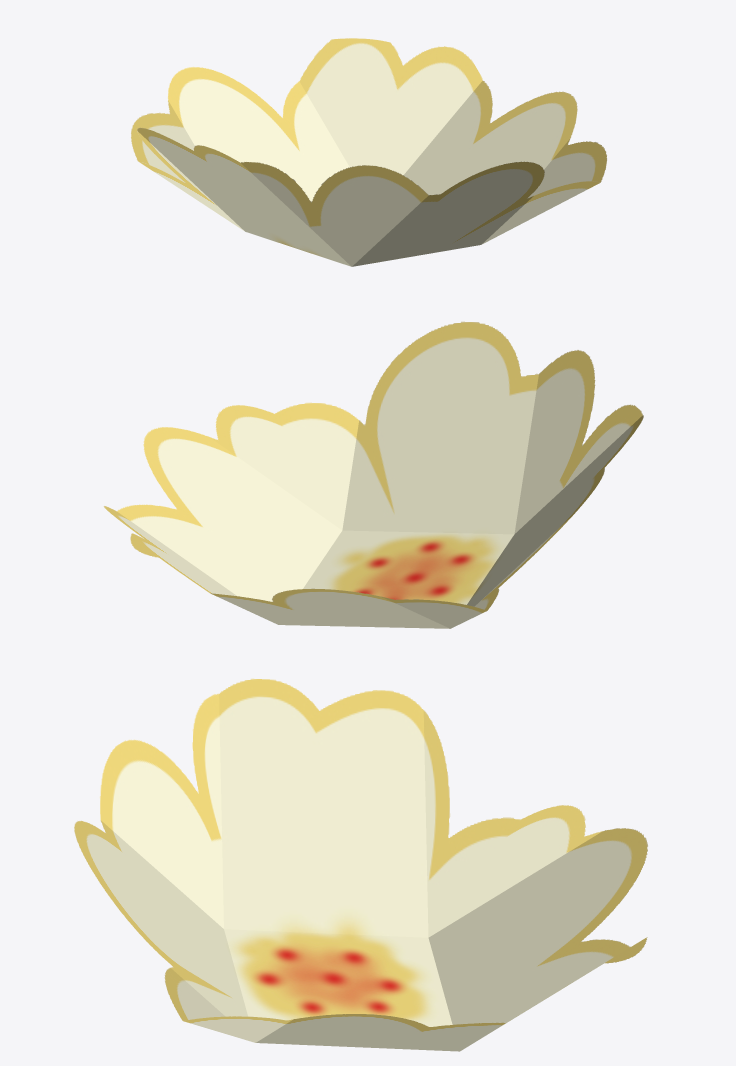
Rendered from single_blossom.glb.
The picture shows the model from 3 angles, top to bottom: view 1: azimuth 30°, elevation 25°; view 2: azimuth 150°, elevation 25°; view 3: azimuth 270°, elevation 25°; orthographic projection. The views are drawn at different scales.
Visible parts, largest first — view 1: blossom; view 2: blossom; view 3: blossom.
Boxes of the visible parts, x1,y1,x2,y2 form: blossom: (131, 38, 606, 266); blossom: (103, 321, 643, 628); blossom: (74, 678, 647, 1051).
Size of the model in its own units: 1.15 by 0.458 by 1.13.
Materials: 1 (1 with a texture image).
